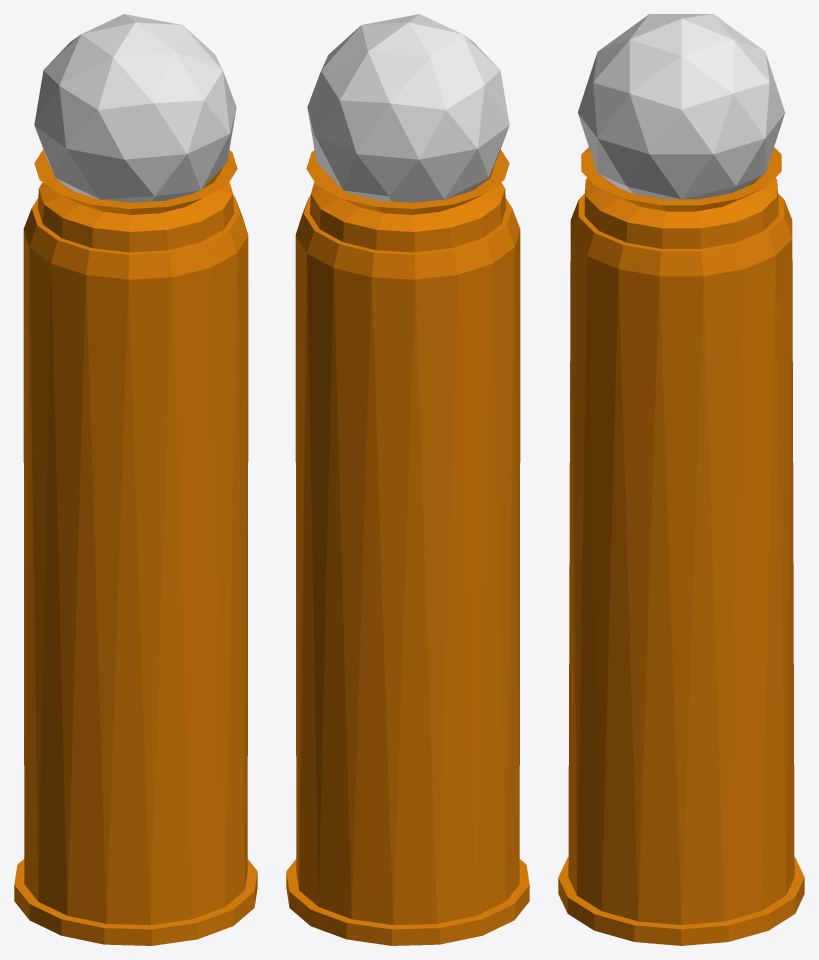
Rendered from Torpedo.fbx.
3 renders of one model, left to right at view 1: azimuth 30°, elevation 25°; view 2: azimuth 150°, elevation 25°; view 3: azimuth 270°, elevation 25°, orthographic.
Visible parts, largest first — view 1: Sabot, Warhead; view 2: Sabot, Warhead; view 3: Sabot, Warhead.
Part boxes in pixels (x1=…): Sabot: x1=14, y1=149, x2=257, y2=945; Warhead: x1=34, y1=14, x2=236, y2=202; Sabot: x1=286, y1=149, x2=529, y2=945; Warhead: x1=307, y1=14, x2=509, y2=202; Sabot: x1=558, y1=147, x2=804, y2=945; Warhead: x1=577, y1=14, x2=785, y2=199.
Bounding box in the file's own units: 55.25 × 217 × 55.25.
